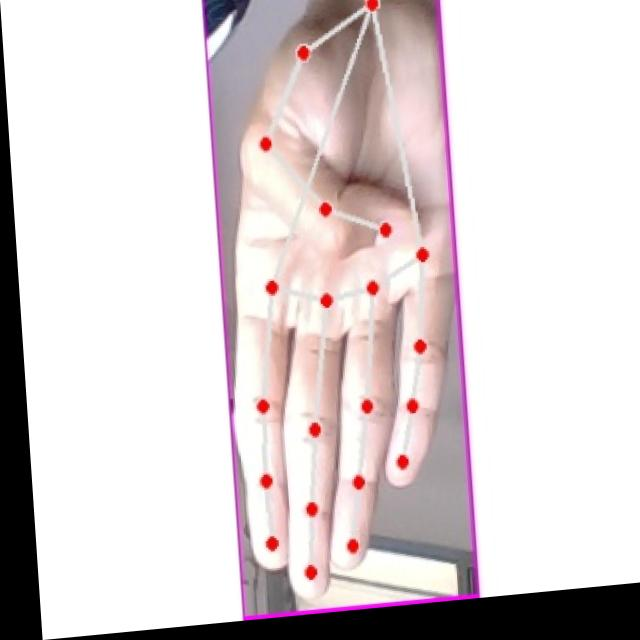B: (205, 0, 465, 615)
